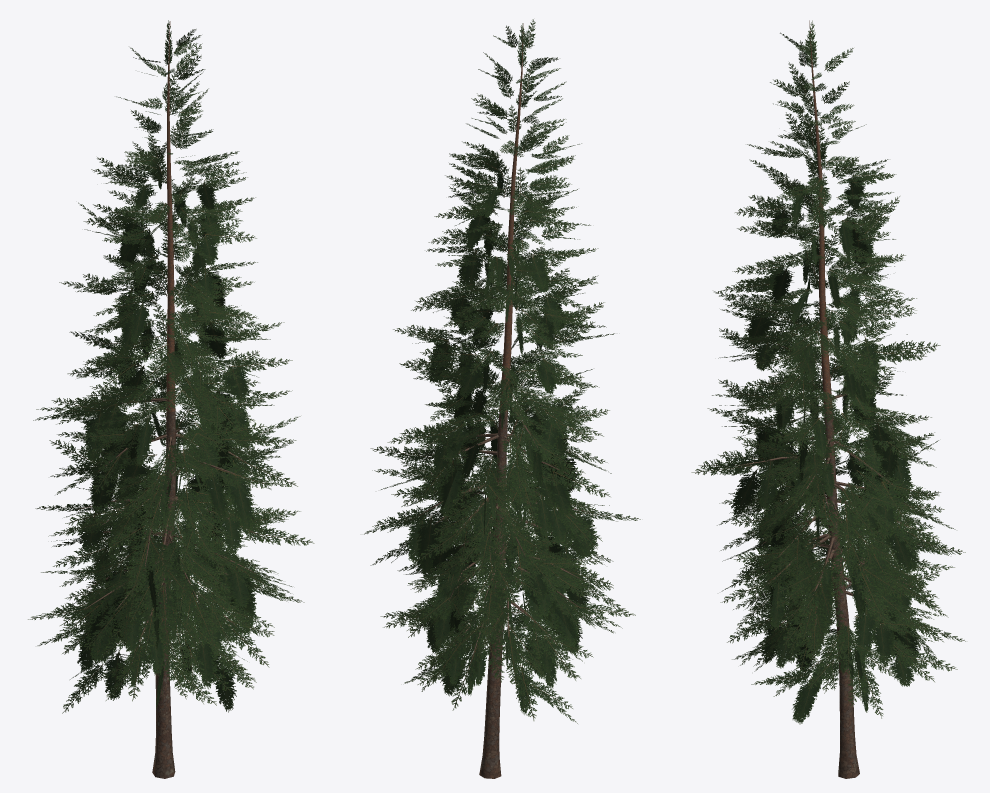
Rendered from spruce_b_LOD1.fbx.
The picture shows the model from 3 angles, left to right: view 1: azimuth 30°, elevation 25°; view 2: azimuth 150°, elevation 25°; view 3: azimuth 270°, elevation 25°; orthographic projection. The views are drawn at different scales.
Visible parts, largest first — view 1: Spruce_B_LOD1_Foliage, Spruce_B_LOD1_Bark; view 2: Spruce_B_LOD1_Foliage, Spruce_B_LOD1_Bark; view 3: Spruce_B_LOD1_Foliage, Spruce_B_LOD1_Bark.
Part boxes in pixels (bbox=[...]): Spruce_B_LOD1_Foliage: bbox=[28, 20, 314, 713]; Spruce_B_LOD1_Bark: bbox=[76, 21, 261, 778]; Spruce_B_LOD1_Foliage: bbox=[364, 19, 640, 723]; Spruce_B_LOD1_Bark: bbox=[412, 23, 593, 778]; Spruce_B_LOD1_Foliage: bbox=[691, 20, 965, 724]; Spruce_B_LOD1_Bark: bbox=[738, 20, 924, 778].
Bounding box in the file's own units: 8.85 × 23.11 × 8.24.
Materials: 2 (2 with a texture image).
